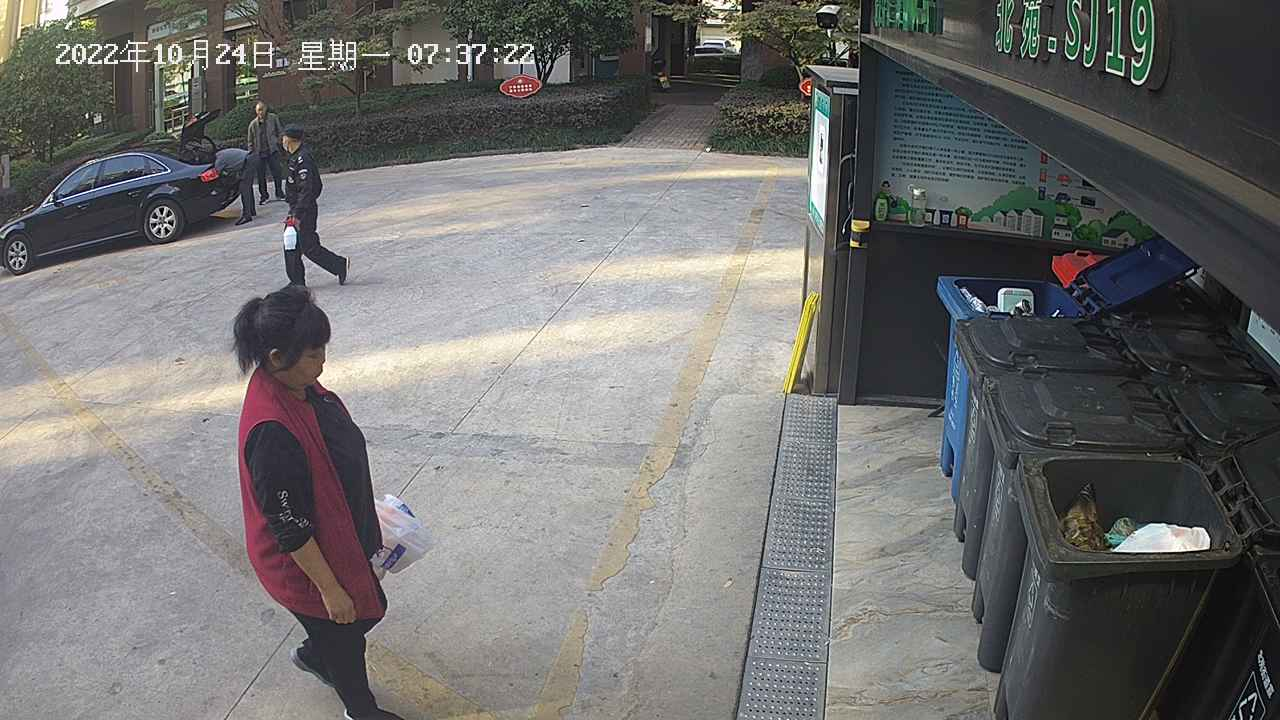garbage-bag: (363, 490, 440, 579)
person: (224, 278, 405, 720)
worker: (202, 97, 352, 292)
